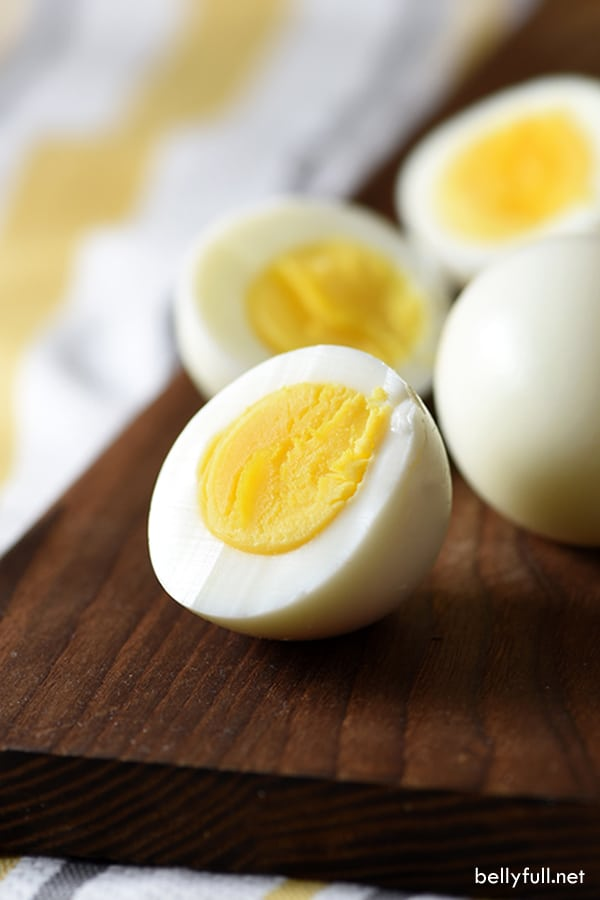egg: (116, 342, 480, 656), (171, 197, 447, 389), (440, 232, 598, 550), (387, 97, 600, 265)
